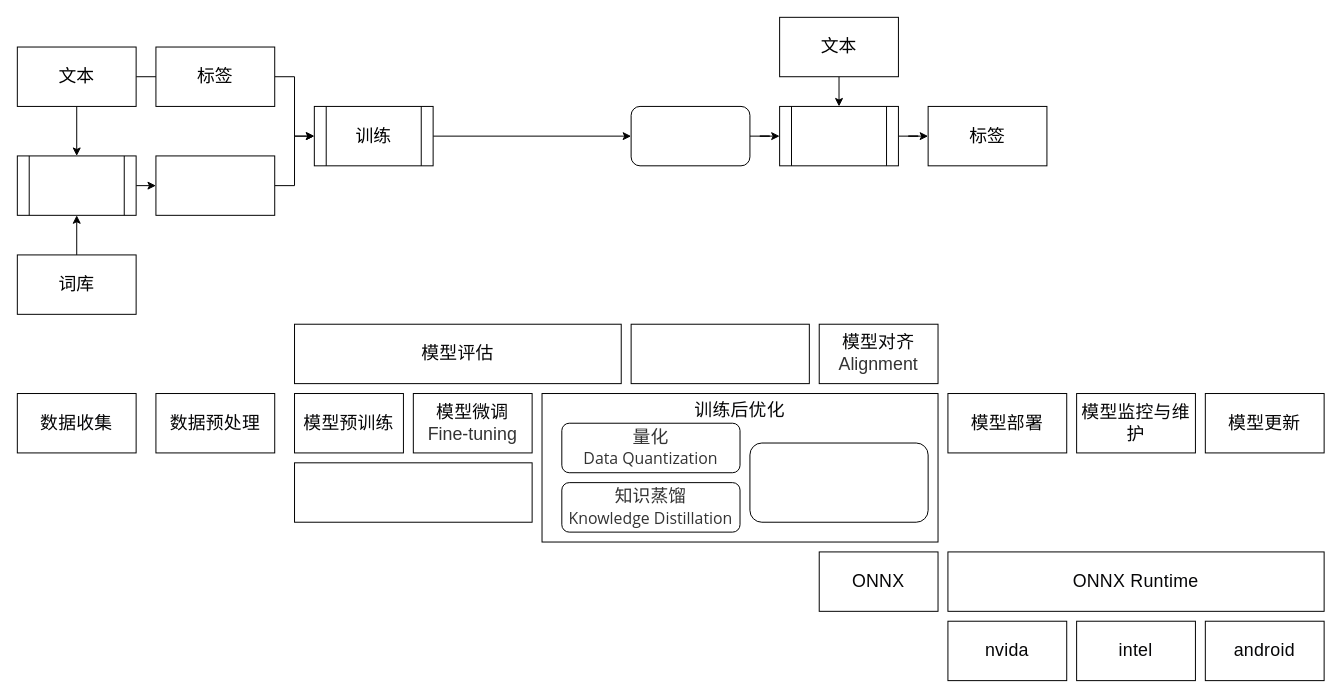
This 1341x698 diagram has some shape labels left out. The centre of each missing label's shape, as x and y in pixels:
"分桶实验" goes at point (719, 353).
"剪枝 Model sparsification Model Pruning" goes at point (838, 482).
"推理" goes at point (838, 135).
"模型" goes at point (690, 135).
"特征" goes at point (215, 185).
"特征提取" goes at point (76, 185).
"训练中优化" goes at point (413, 492).
